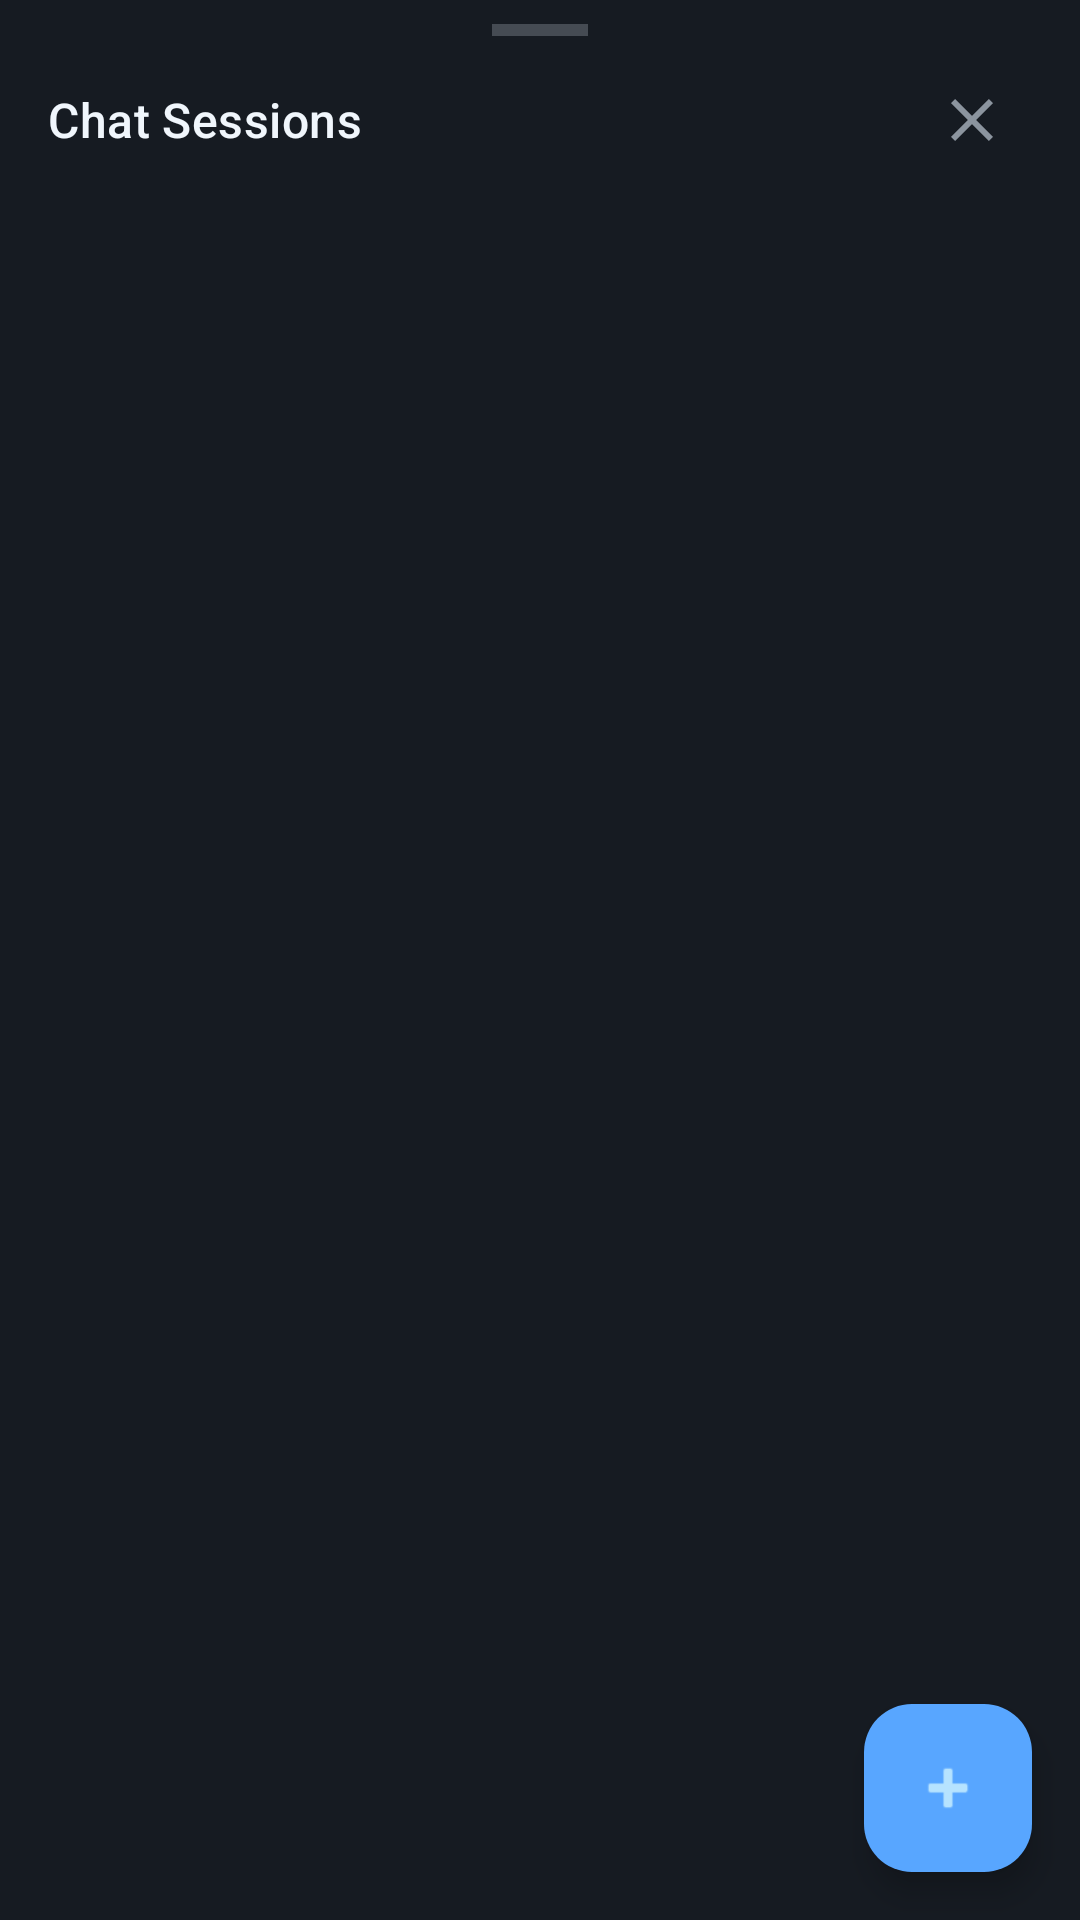

Screen size 1080px x 1920px. Icon name, then its box in pixels as (x1, y1, x2, y2):
Close: (951, 99, 993, 141)
New Session: (864, 1704, 1032, 1872)
